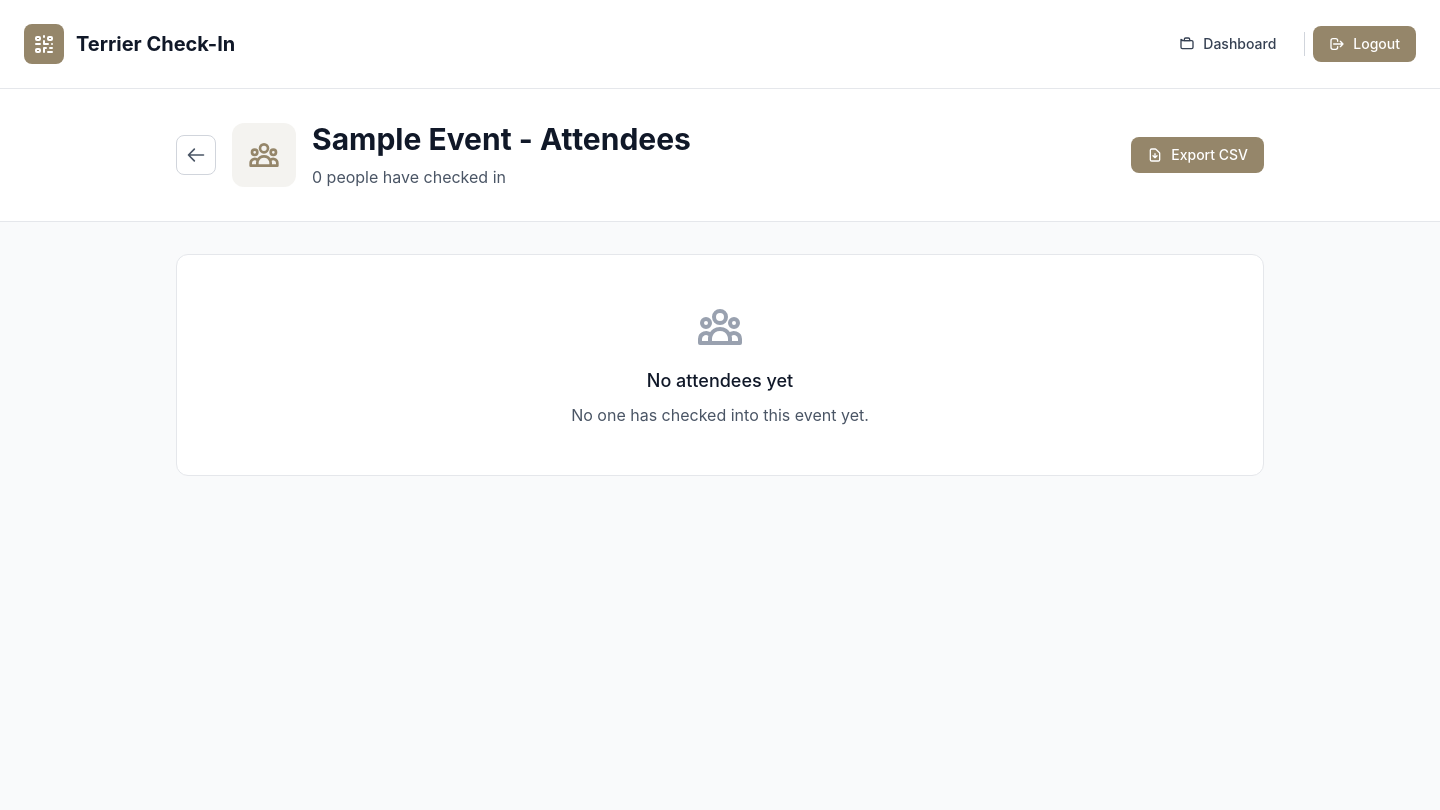
Test: EventAttendeesPage › shows and closes notification
Expected: the heading "No attendees yet" is shown, x1=647 y1=370 x2=793 y2=391
Click the button "Export CSV": (1198, 155) x1=1131 y1=137 x2=1264 y2=173
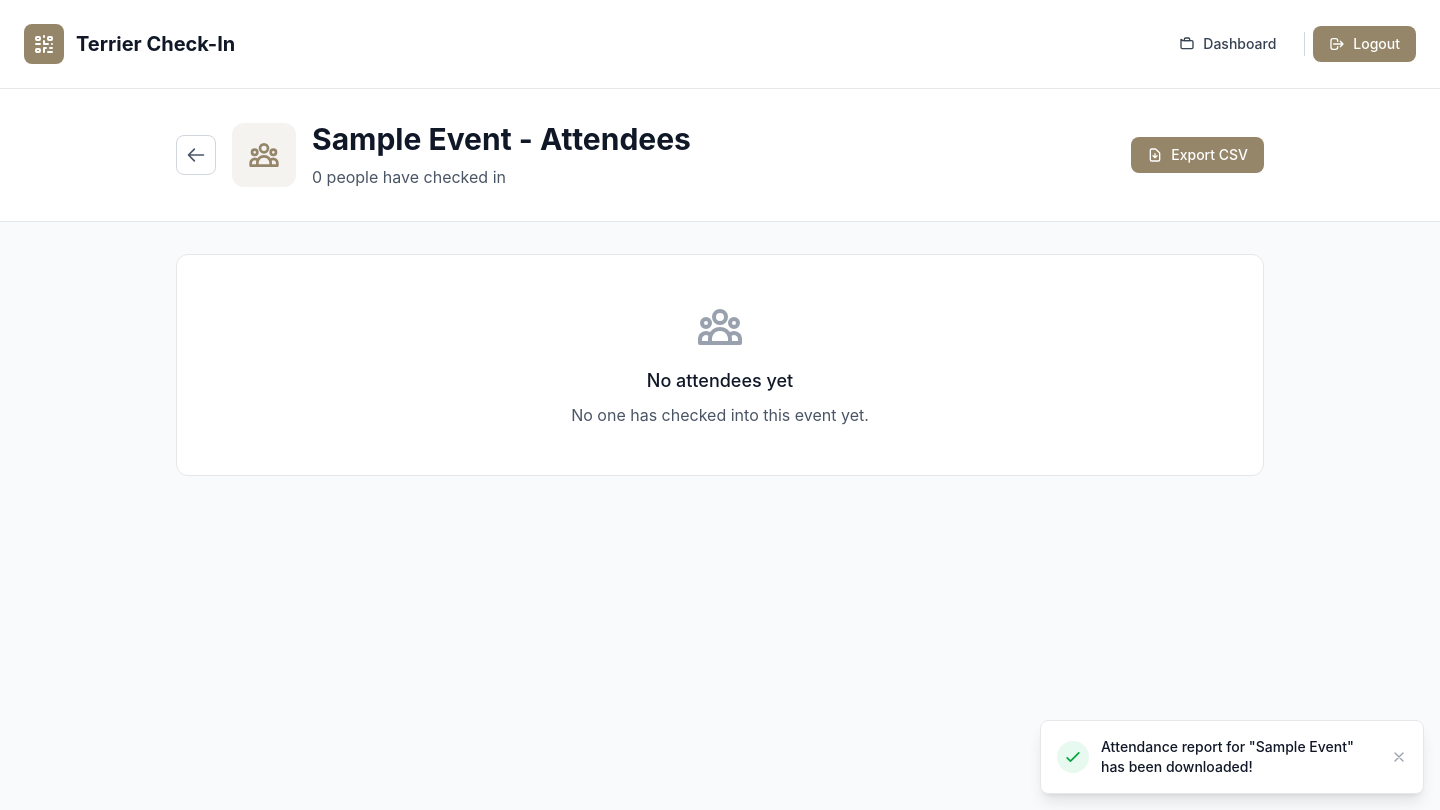
Expected: the message "Attendance report for \"Sample Event\" has been downloaded!" is shown, x1=1040 y1=720 x2=1424 y2=794
Click the button named "Close notification": (1399, 757) x1=1391 y1=749 x2=1407 y2=765
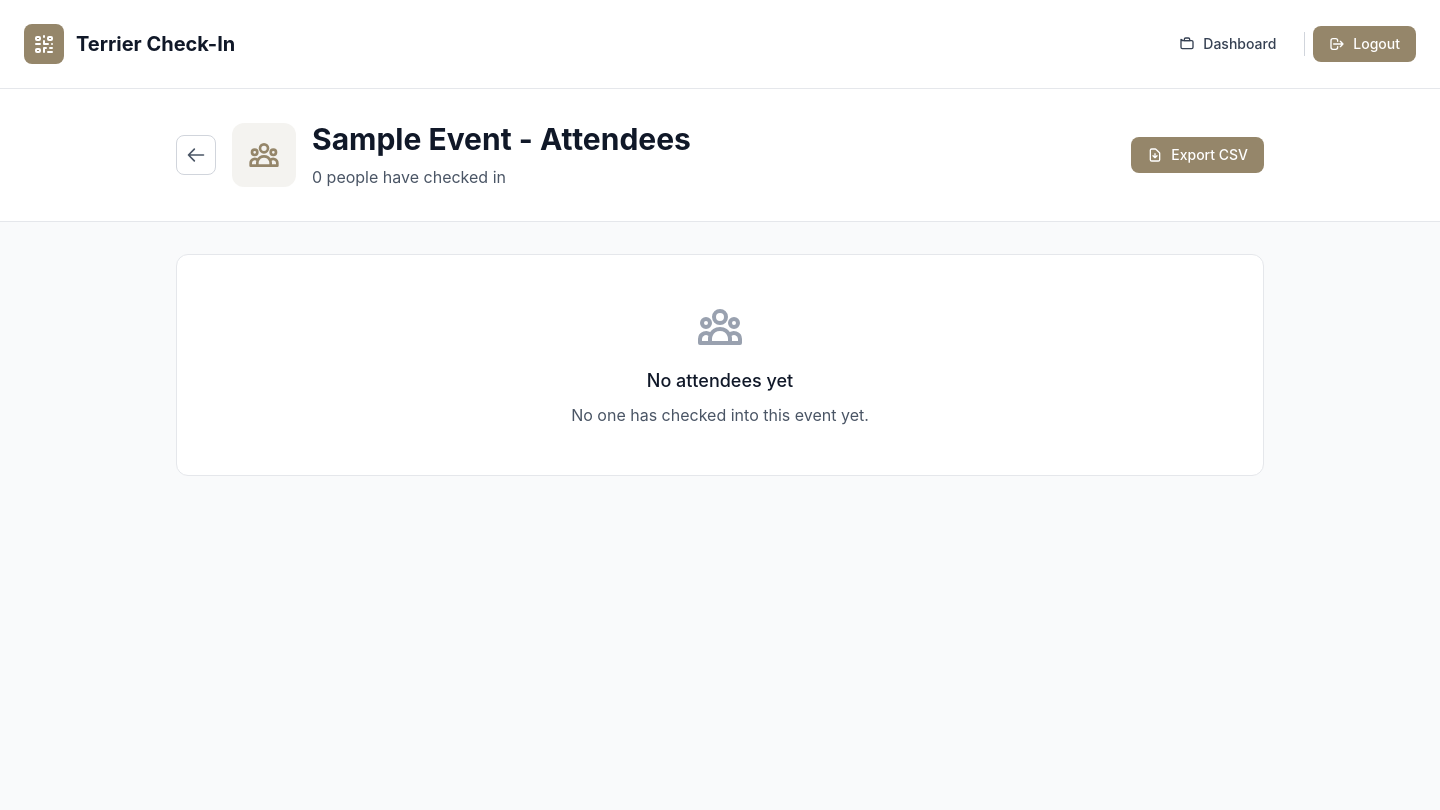
Expected: the message "Attendance report for \"Sample Event\" has been downloaded!" is gone
